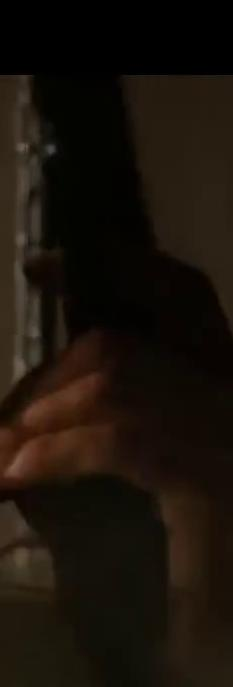gun: (0, 1, 233, 687)
